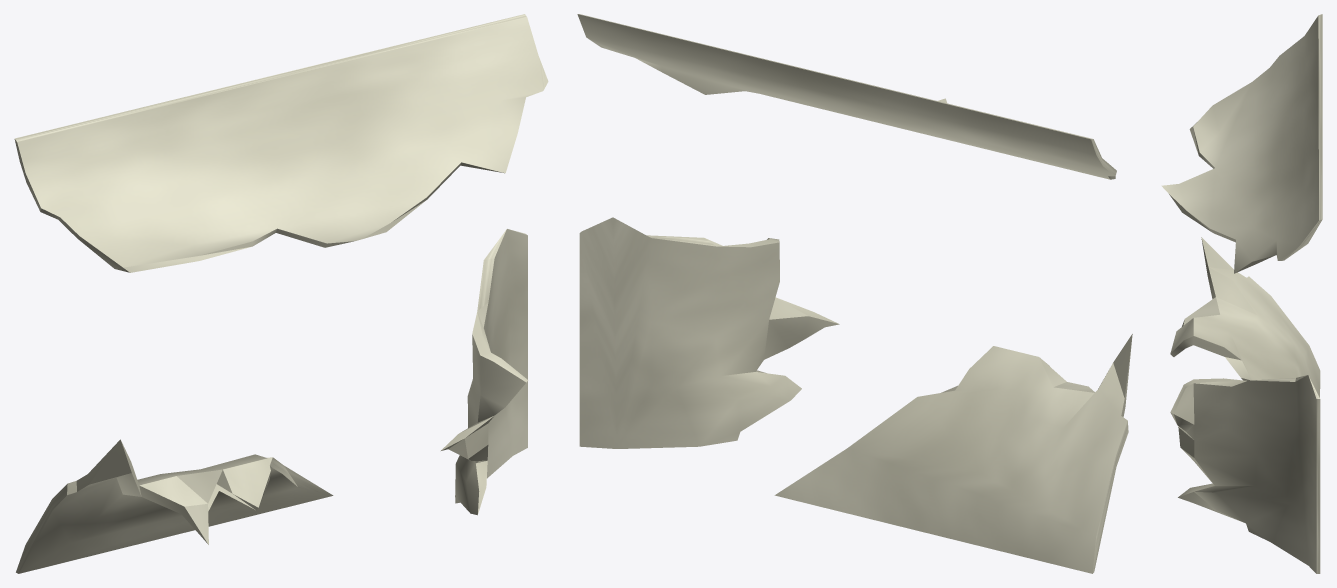
The model's file is shojiTearPaper.obj.
3 renders of one model, left to right at view 1: azimuth 30°, elevation 25°; view 2: azimuth 150°, elevation 25°; view 3: azimuth 270°, elevation 25°, orthographic. The views are drawn at different scales.
Visible parts, largest first — view 1: 立方体.002; view 2: 立方体.002; view 3: 立方体.002.
Part boxes in pixels (x1,y1,x2,y2): 立方体.002: (14,14,548,573); 立方体.002: (577,14,1132,573); 立方体.002: (1161,14,1322,573).
Size of the model in its own units: 1.71 by 1.38 by 0.5676.
Materials: 1 (1 with a texture image).
